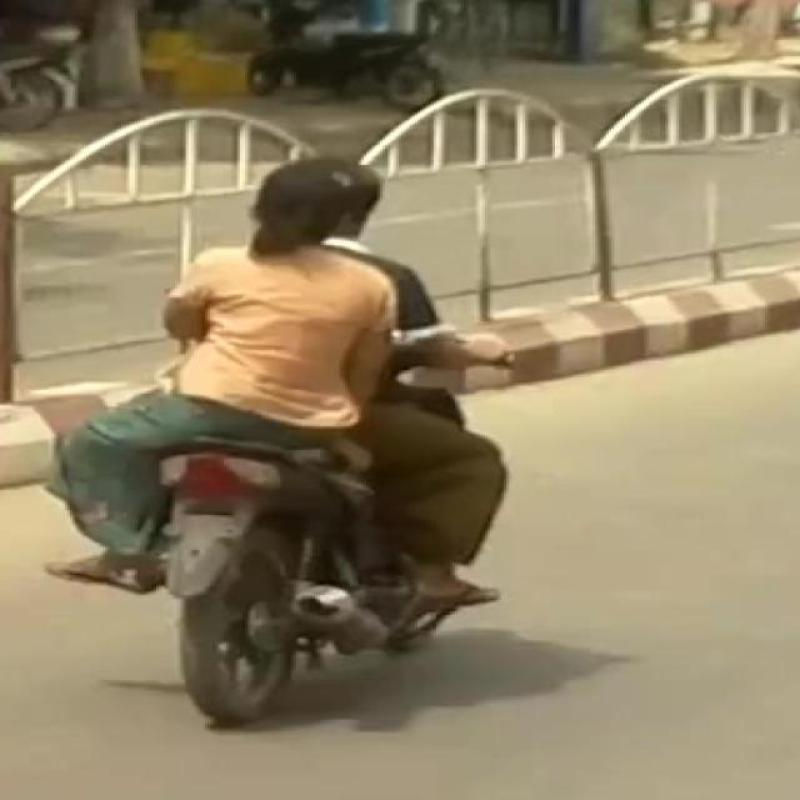nohelmet: (246, 141, 418, 276)
